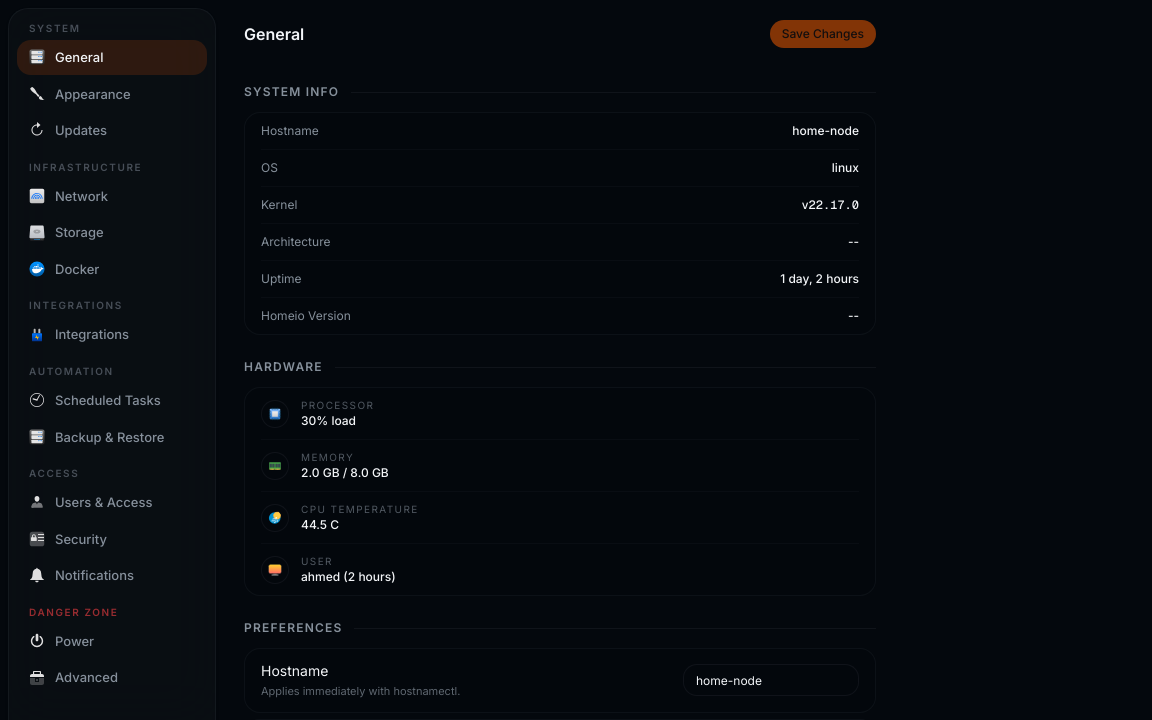
Scenario: SettingsPanel › renders real backup controls and removes placeholder backup fields
Click the button "Backup & Restore". click: coordinates (112, 437)
box: [17,420,207,454]
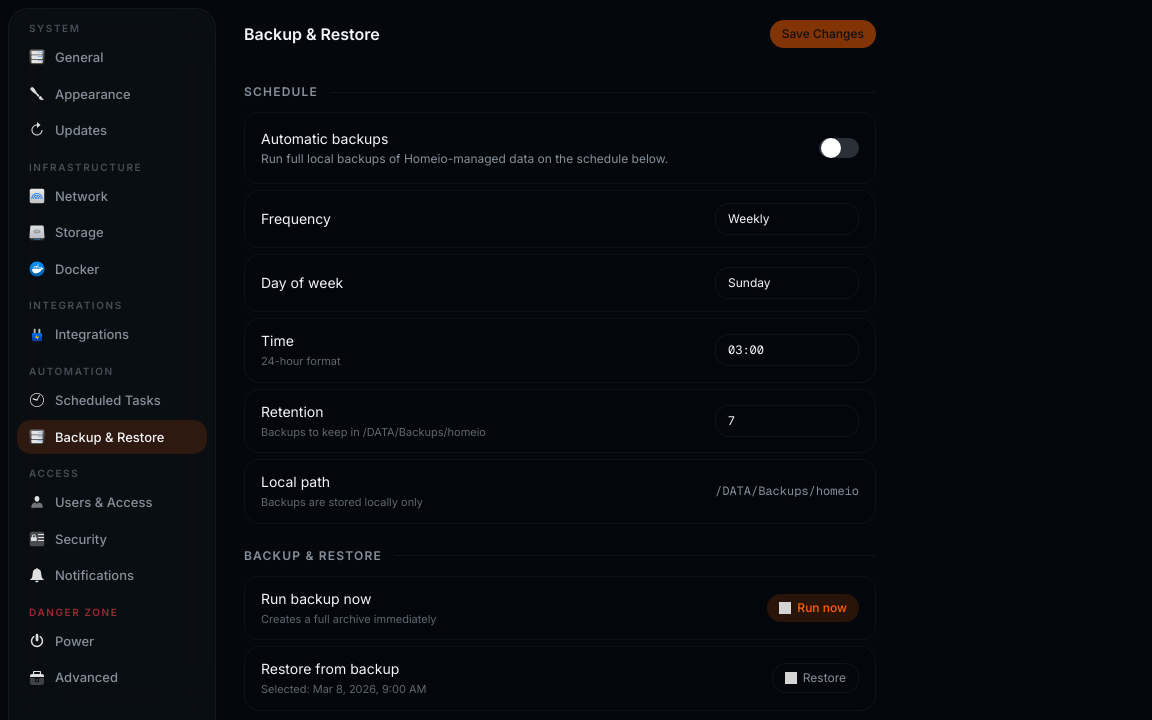
Now the text "Schedule" is shown, box [244,84,318,100]
Now the text "/DATA/Backups/homeio" is shown, box [715,483,859,499]
